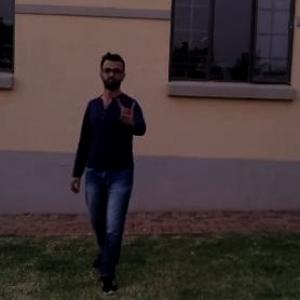takeoff-hand: (111, 92, 143, 127)
